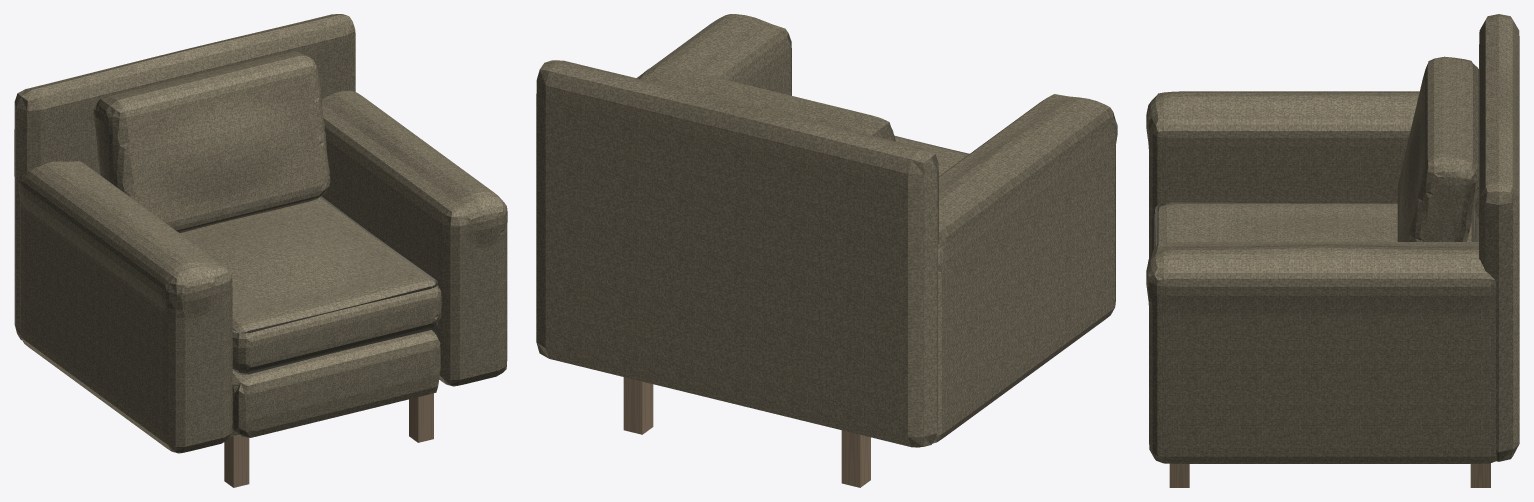
Rendered from armchair.glb.
3 renders of one model, left to right at view 1: azimuth 30°, elevation 25°; view 2: azimuth 150°, elevation 25°; view 3: azimuth 270°, elevation 25°, orthographic. The views are drawn at different scales.
Visible parts, largest first — view 1: arm-pad-l:fabric:eyJwcmVzZXQiOiJib3VjbGUifQ, inside-back:fabric:eyJwcmVzZXQiOiJib3VjbGUifQ, arm-pad-r:fabric:eyJwcmVzZXQiOiJib3VjbGUifQ, seat:fabric:eyJwcmVzZXQiOiJib3VjbGUifQ, back-pad:fabric:eyJwcmVzZXQiOiJib3VjbGUifQ, deck:fabric:eyJwcmVzZXQiOiJib3VjbGUifQ, seat:piping:pbr, leg-fl:timber:eyJsb2ciOnsic3BlY2llcyI6ImJlZWNoIiwiYWdlIjoxNy, leg-fr:timber:eyJsb2ciOnsic3BlY2llcyI6ImJlZWNoIiwiYWdlIjoxNy; view 2: back-pad:fabric:eyJwcmVzZXQiOiJib3VjbGUifQ, arm-pad-l:fabric:eyJwcmVzZXQiOiJib3VjbGUifQ, arm-pad-r:fabric:eyJwcmVzZXQiOiJib3VjbGUifQ, inside-back:fabric:eyJwcmVzZXQiOiJib3VjbGUifQ, leg-br:timber:eyJsb2ciOnsic3BlY2llcyI6ImJlZWNoIiwiYWdlIjoxNy, leg-bl:timber:eyJsb2ciOnsic3BlY2llcyI6ImJlZWNoIiwiYWdlIjoxNy, seat:fabric:eyJwcmVzZXQiOiJib3VjbGUifQ; view 3: arm-pad-r:fabric:eyJwcmVzZXQiOiJib3VjbGUifQ, arm-pad-l:fabric:eyJwcmVzZXQiOiJib3VjbGUifQ, back-pad:fabric:eyJwcmVzZXQiOiJib3VjbGUifQ, inside-back:fabric:eyJwcmVzZXQiOiJib3VjbGUifQ, seat:fabric:eyJwcmVzZXQiOiJib3VjbGUifQ, seat:piping:pbr, leg-br:timber:eyJsb2ciOnsic3BlY2llcyI6ImJlZWNoIiwiYWdlIjoxNy, leg-fr:timber:eyJsb2ciOnsic3BlY2llcyI6ImJlZWNoIiwiYWdlIjoxNy.
Boxes of the visible parts, box(x1,y1,x2,y2) form: arm-pad-l:fabric:eyJwcmVzZXQiOiJib3VjbGUifQ: box(18, 161, 232, 453); inside-back:fabric:eyJwcmVzZXQiOiJib3VjbGUifQ: box(93, 51, 330, 232); arm-pad-r:fabric:eyJwcmVzZXQiOiJib3VjbGUifQ: box(321, 90, 507, 386); seat:fabric:eyJwcmVzZXQiOiJib3VjbGUifQ: box(180, 197, 441, 373); back-pad:fabric:eyJwcmVzZXQiOiJib3VjbGUifQ: box(14, 14, 355, 340); deck:fabric:eyJwcmVzZXQiOiJib3VjbGUifQ: box(232, 330, 440, 437); seat:piping:pbr: box(232, 196, 438, 374); leg-fl:timber:eyJsb2ciOnsic3BlY2llcyI6ImJlZWNoIiwiYWdlIjoxNy: box(233, 436, 249, 487); leg-fr:timber:eyJsb2ciOnsic3BlY2llcyI6ImJlZWNoIiwiYWdlIjoxNy: box(418, 393, 433, 442); back-pad:fabric:eyJwcmVzZXQiOiJib3VjbGUifQ: box(536, 60, 938, 447); arm-pad-l:fabric:eyJwcmVzZXQiOiJib3VjbGUifQ: box(932, 94, 1117, 443); arm-pad-r:fabric:eyJwcmVzZXQiOiJib3VjbGUifQ: box(637, 14, 791, 95); inside-back:fabric:eyJwcmVzZXQiOiJib3VjbGUifQ: box(638, 65, 895, 141); leg-br:timber:eyJsb2ciOnsic3BlY2llcyI6ImJlZWNoIiwiYWdlIjoxNy: box(623, 377, 642, 434); leg-bl:timber:eyJsb2ciOnsic3BlY2llcyI6ImJlZWNoIiwiYWdlIjoxNy: box(841, 430, 860, 487); seat:fabric:eyJwcmVzZXQiOiJib3VjbGUifQ: box(894, 136, 968, 175); arm-pad-r:fabric:eyJwcmVzZXQiOiJib3VjbGUifQ: box(1146, 242, 1497, 463); arm-pad-l:fabric:eyJwcmVzZXQiOiJib3VjbGUifQ: box(1146, 91, 1478, 258); back-pad:fabric:eyJwcmVzZXQiOiJib3VjbGUifQ: box(1479, 14, 1519, 461); inside-back:fabric:eyJwcmVzZXQiOiJib3VjbGUifQ: box(1397, 56, 1479, 241); seat:fabric:eyJwcmVzZXQiOiJib3VjbGUifQ: box(1151, 203, 1478, 253); seat:piping:pbr: box(1155, 202, 1475, 246); leg-br:timber:eyJsb2ciOnsic3BlY2llcyI6ImJlZWNoIiwiYWdlIjoxNy: box(1470, 463, 1490, 487); leg-fr:timber:eyJsb2ciOnsic3BlY2llcyI6ImJlZWNoIiwiYWdlIjoxNy: box(1169, 463, 1189, 487).
Size of the model in its own units: 0.9662 by 0.8238 by 0.8281.
Materials: 61 (30 with a texture image).
